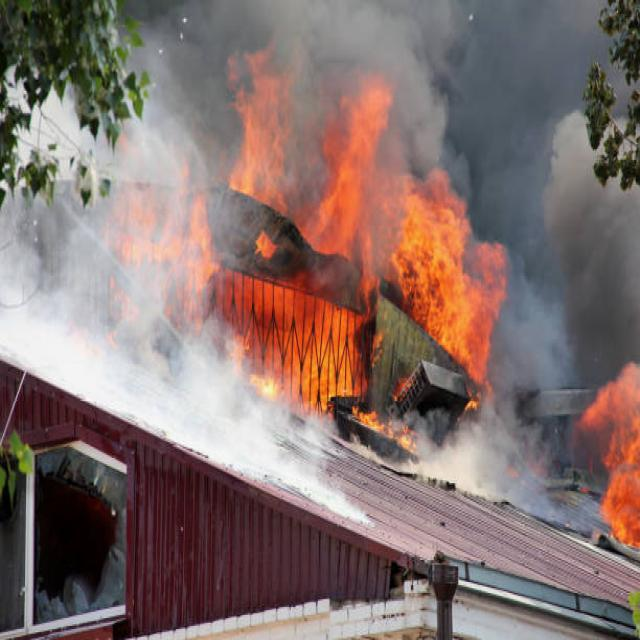Fire: (329, 82, 508, 370), (216, 268, 369, 409), (223, 52, 310, 202)
Smoke: (380, 1, 581, 212), (4, 202, 194, 371), (140, 4, 229, 251), (502, 202, 599, 388), (423, 409, 572, 511), (159, 362, 252, 449)
